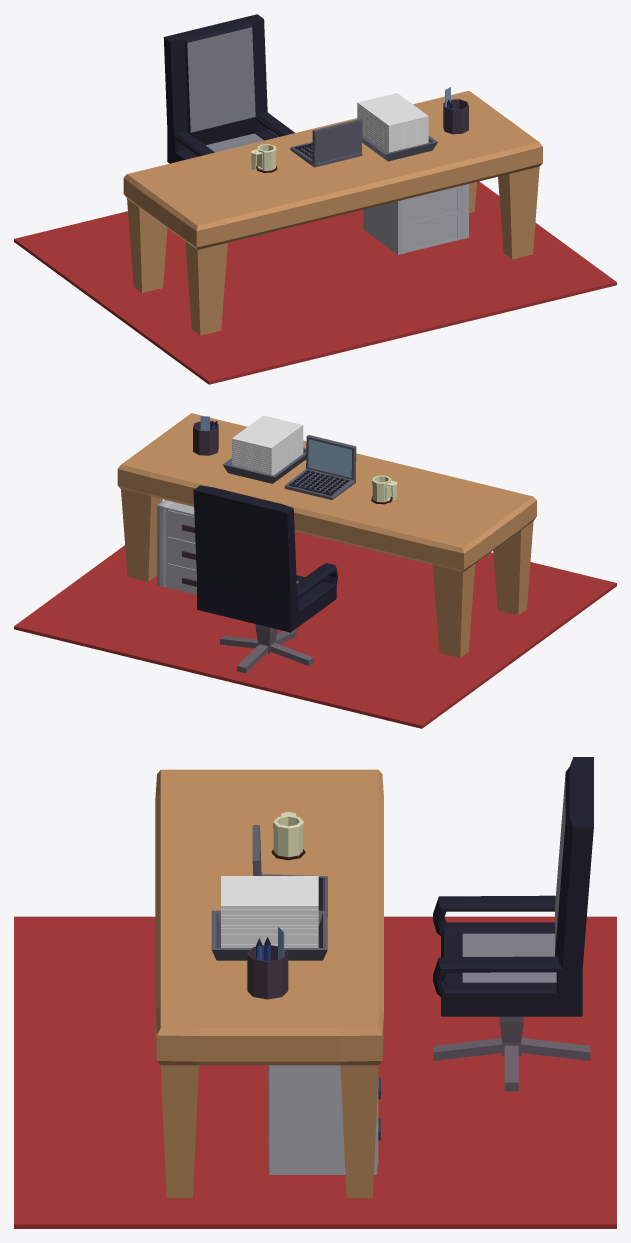
File: uploads_files_4009962_working+desk+for+free.glb
3 views of the same model, one above another, from view 1: azimuth 30°, elevation 25°; view 2: azimuth 150°, elevation 25°; view 3: azimuth 270°, elevation 25° (orthographic). The views are drawn at different scales.
Parts seen in each view (by area): view 1: Cube.027, Cube.021, Cube.023, Cube.022, Cube.020, Cube.018, Cube, Cube.002, Cube.019; view 2: Cube.027, Cube.021, Cube.023, Cube.022, Cube.020, Cube.018, Cube.002, Cube, Cube.019; view 3: Cube.027, Cube.021, Cube.023, Cube.022, Cube.018, Cube, Cube.002, Cube.019, Cube.020.
Part boxes in pixels (box(x1,y1,x2,y2)): Cube.027: box(14, 181, 616, 384); Cube.021: box(123, 90, 542, 335); Cube.023: box(163, 14, 294, 236); Cube.022: box(363, 184, 468, 254); Cube.020: box(290, 118, 362, 167); Cube.018: box(357, 93, 428, 127); Cube: box(443, 99, 468, 134); Cube.002: box(362, 135, 437, 161); Cube.019: box(251, 144, 276, 170); Cube.027: box(14, 531, 616, 728); Cube.021: box(117, 413, 536, 657); Cube.023: box(193, 485, 337, 673); Cube.022: box(157, 500, 196, 594); Cube.020: box(284, 435, 356, 499); Cube.018: box(232, 415, 303, 449); Cube.002: box(222, 447, 306, 483); Cube: box(193, 421, 218, 455); Cube.019: box(372, 475, 397, 502); Cube.027: box(14, 916, 616, 1228); Cube.021: box(155, 769, 383, 1197); Cube.023: box(433, 757, 593, 1091); Cube.022: box(268, 1065, 380, 1174); Cube.018: box(221, 876, 318, 908); Cube: box(247, 945, 288, 999); Cube.002: box(211, 910, 327, 960); Cube.019: box(273, 811, 303, 857); Cube.020: box(252, 825, 327, 916).
Bounding box in the file's own units: 3.75 × 1.54 × 3.11.
Materials: 1 (1 with a texture image).
